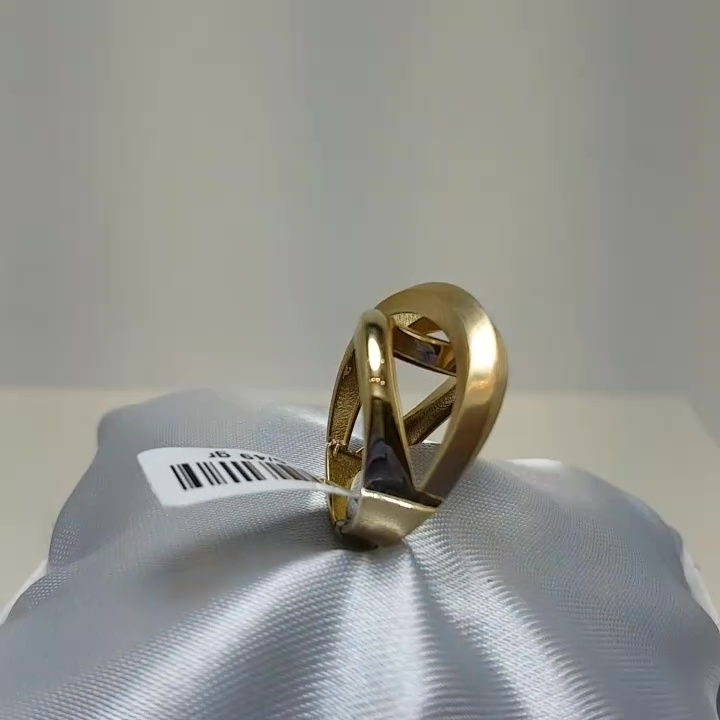Ring 3: (306, 254, 531, 565)
